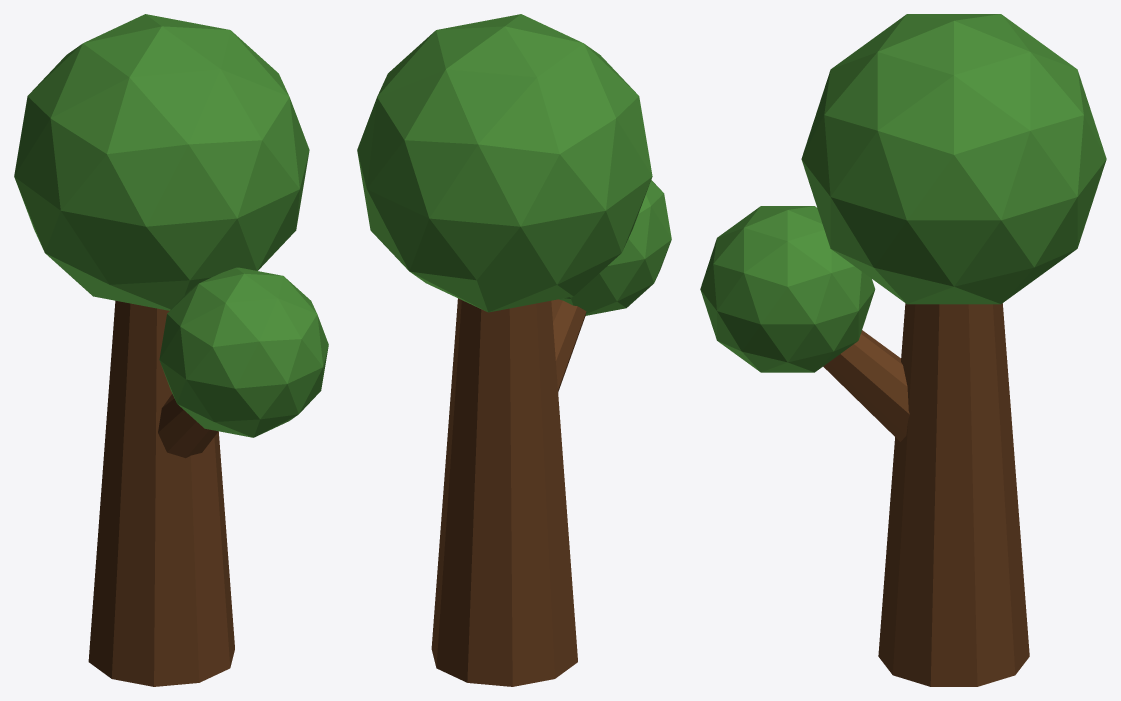
Rendered from tree.fbx.
3 views of the same model, side by side, from view 1: azimuth 30°, elevation 25°; view 2: azimuth 150°, elevation 25°; view 3: azimuth 270°, elevation 25° (orthographic).
Parts seen in each view (by area): view 1: Icosphere, Cylinder, Icosphere.001, Cylinder.001; view 2: Icosphere, Cylinder, Icosphere.001, Cylinder.001; view 3: Icosphere, Cylinder, Icosphere.001, Cylinder.001.
Boxes of the visible parts, box(x1,y1,x2,y2) form: Icosphere: box(14, 14, 309, 310); Cylinder: box(88, 300, 234, 686); Icosphere.001: box(159, 267, 328, 437); Cylinder.001: box(158, 394, 218, 458); Icosphere: box(357, 14, 652, 312); Cylinder: box(431, 298, 577, 686); Icosphere.001: box(559, 180, 671, 315); Cylinder.001: box(551, 299, 586, 392); Icosphere: box(801, 14, 1106, 304); Cylinder: box(878, 303, 1029, 686); Icosphere.001: box(700, 206, 875, 372); Cylinder.001: box(823, 330, 909, 441).
Bounding box in the file's own units: 120 × 290 × 168.
